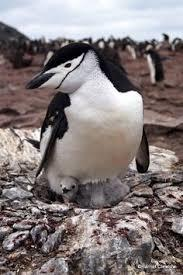chinstrap: (8, 34, 164, 210)
